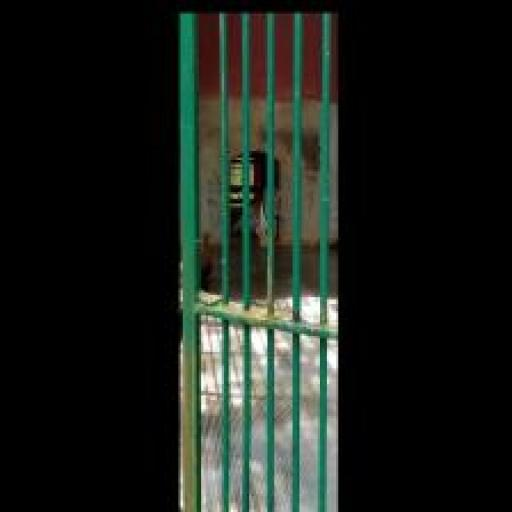Tiger: (228, 178, 287, 256)
